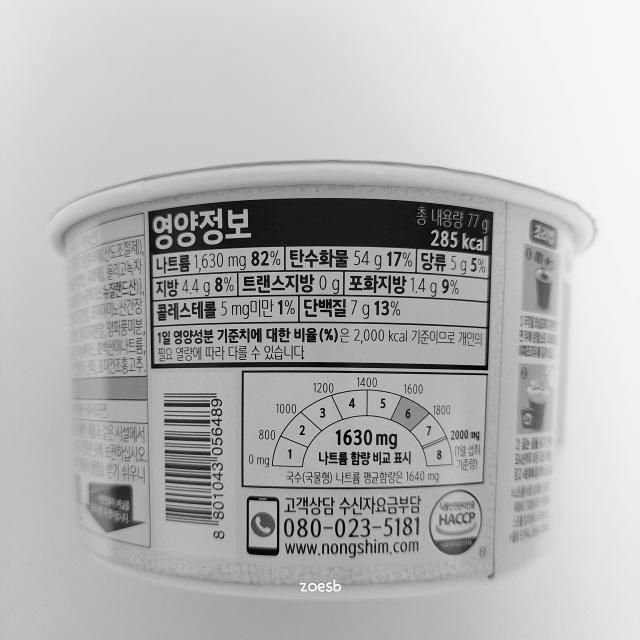Nutrition Label: (137, 200, 505, 373)
